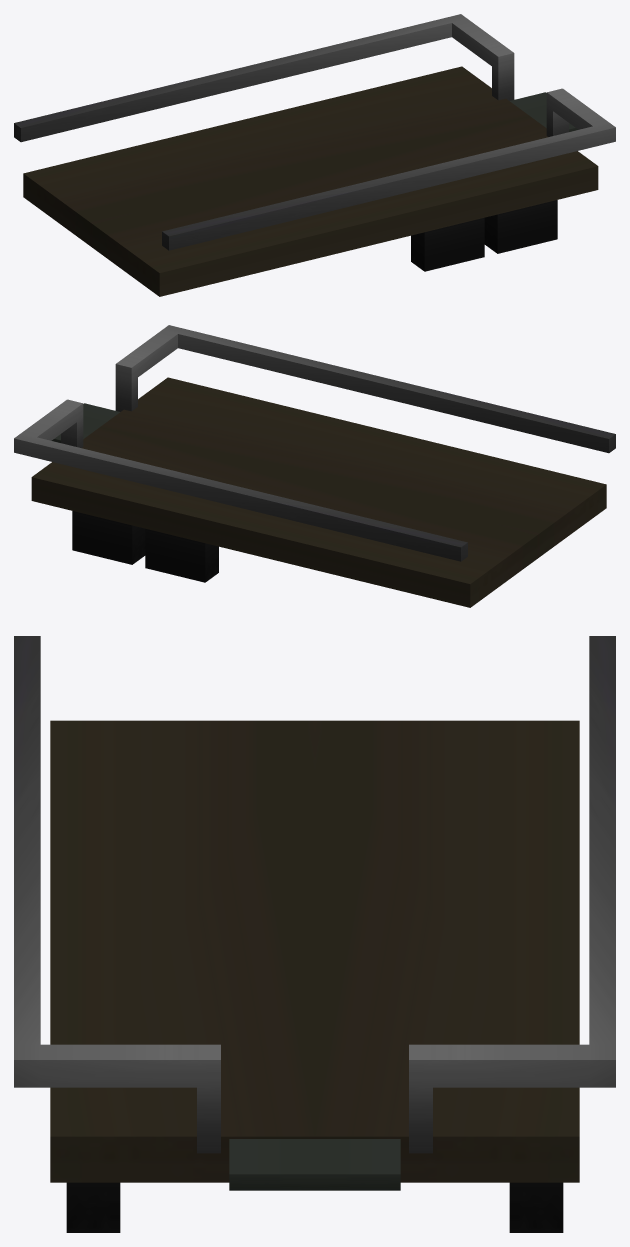
File: train_half_empty_platform_placeholder_v011.fbx
3 renders of one model, top to bottom at view 1: azimuth 30°, elevation 25°; view 2: azimuth 150°, elevation 25°; view 3: azimuth 270°, elevation 25°, orthographic. The views are drawn at different scales.
Visible parts, largest first — view 1: base plattform v1; view 2: base plattform v1; view 3: base plattform v1.
Part boxes in pixels (box(x1,y1,x2,y2)): base plattform v1: box(14, 14, 615, 296); base plattform v1: box(14, 325, 615, 607); base plattform v1: box(14, 636, 615, 1232).
Bounding box in the file's own units: 336 × 133 × 596.
2 materials, 2 textured.
